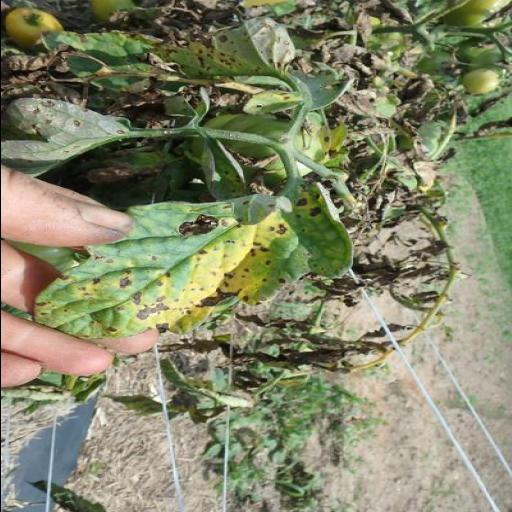Septoria: (30, 185, 358, 341), (0, 97, 130, 177), (147, 20, 299, 88)
